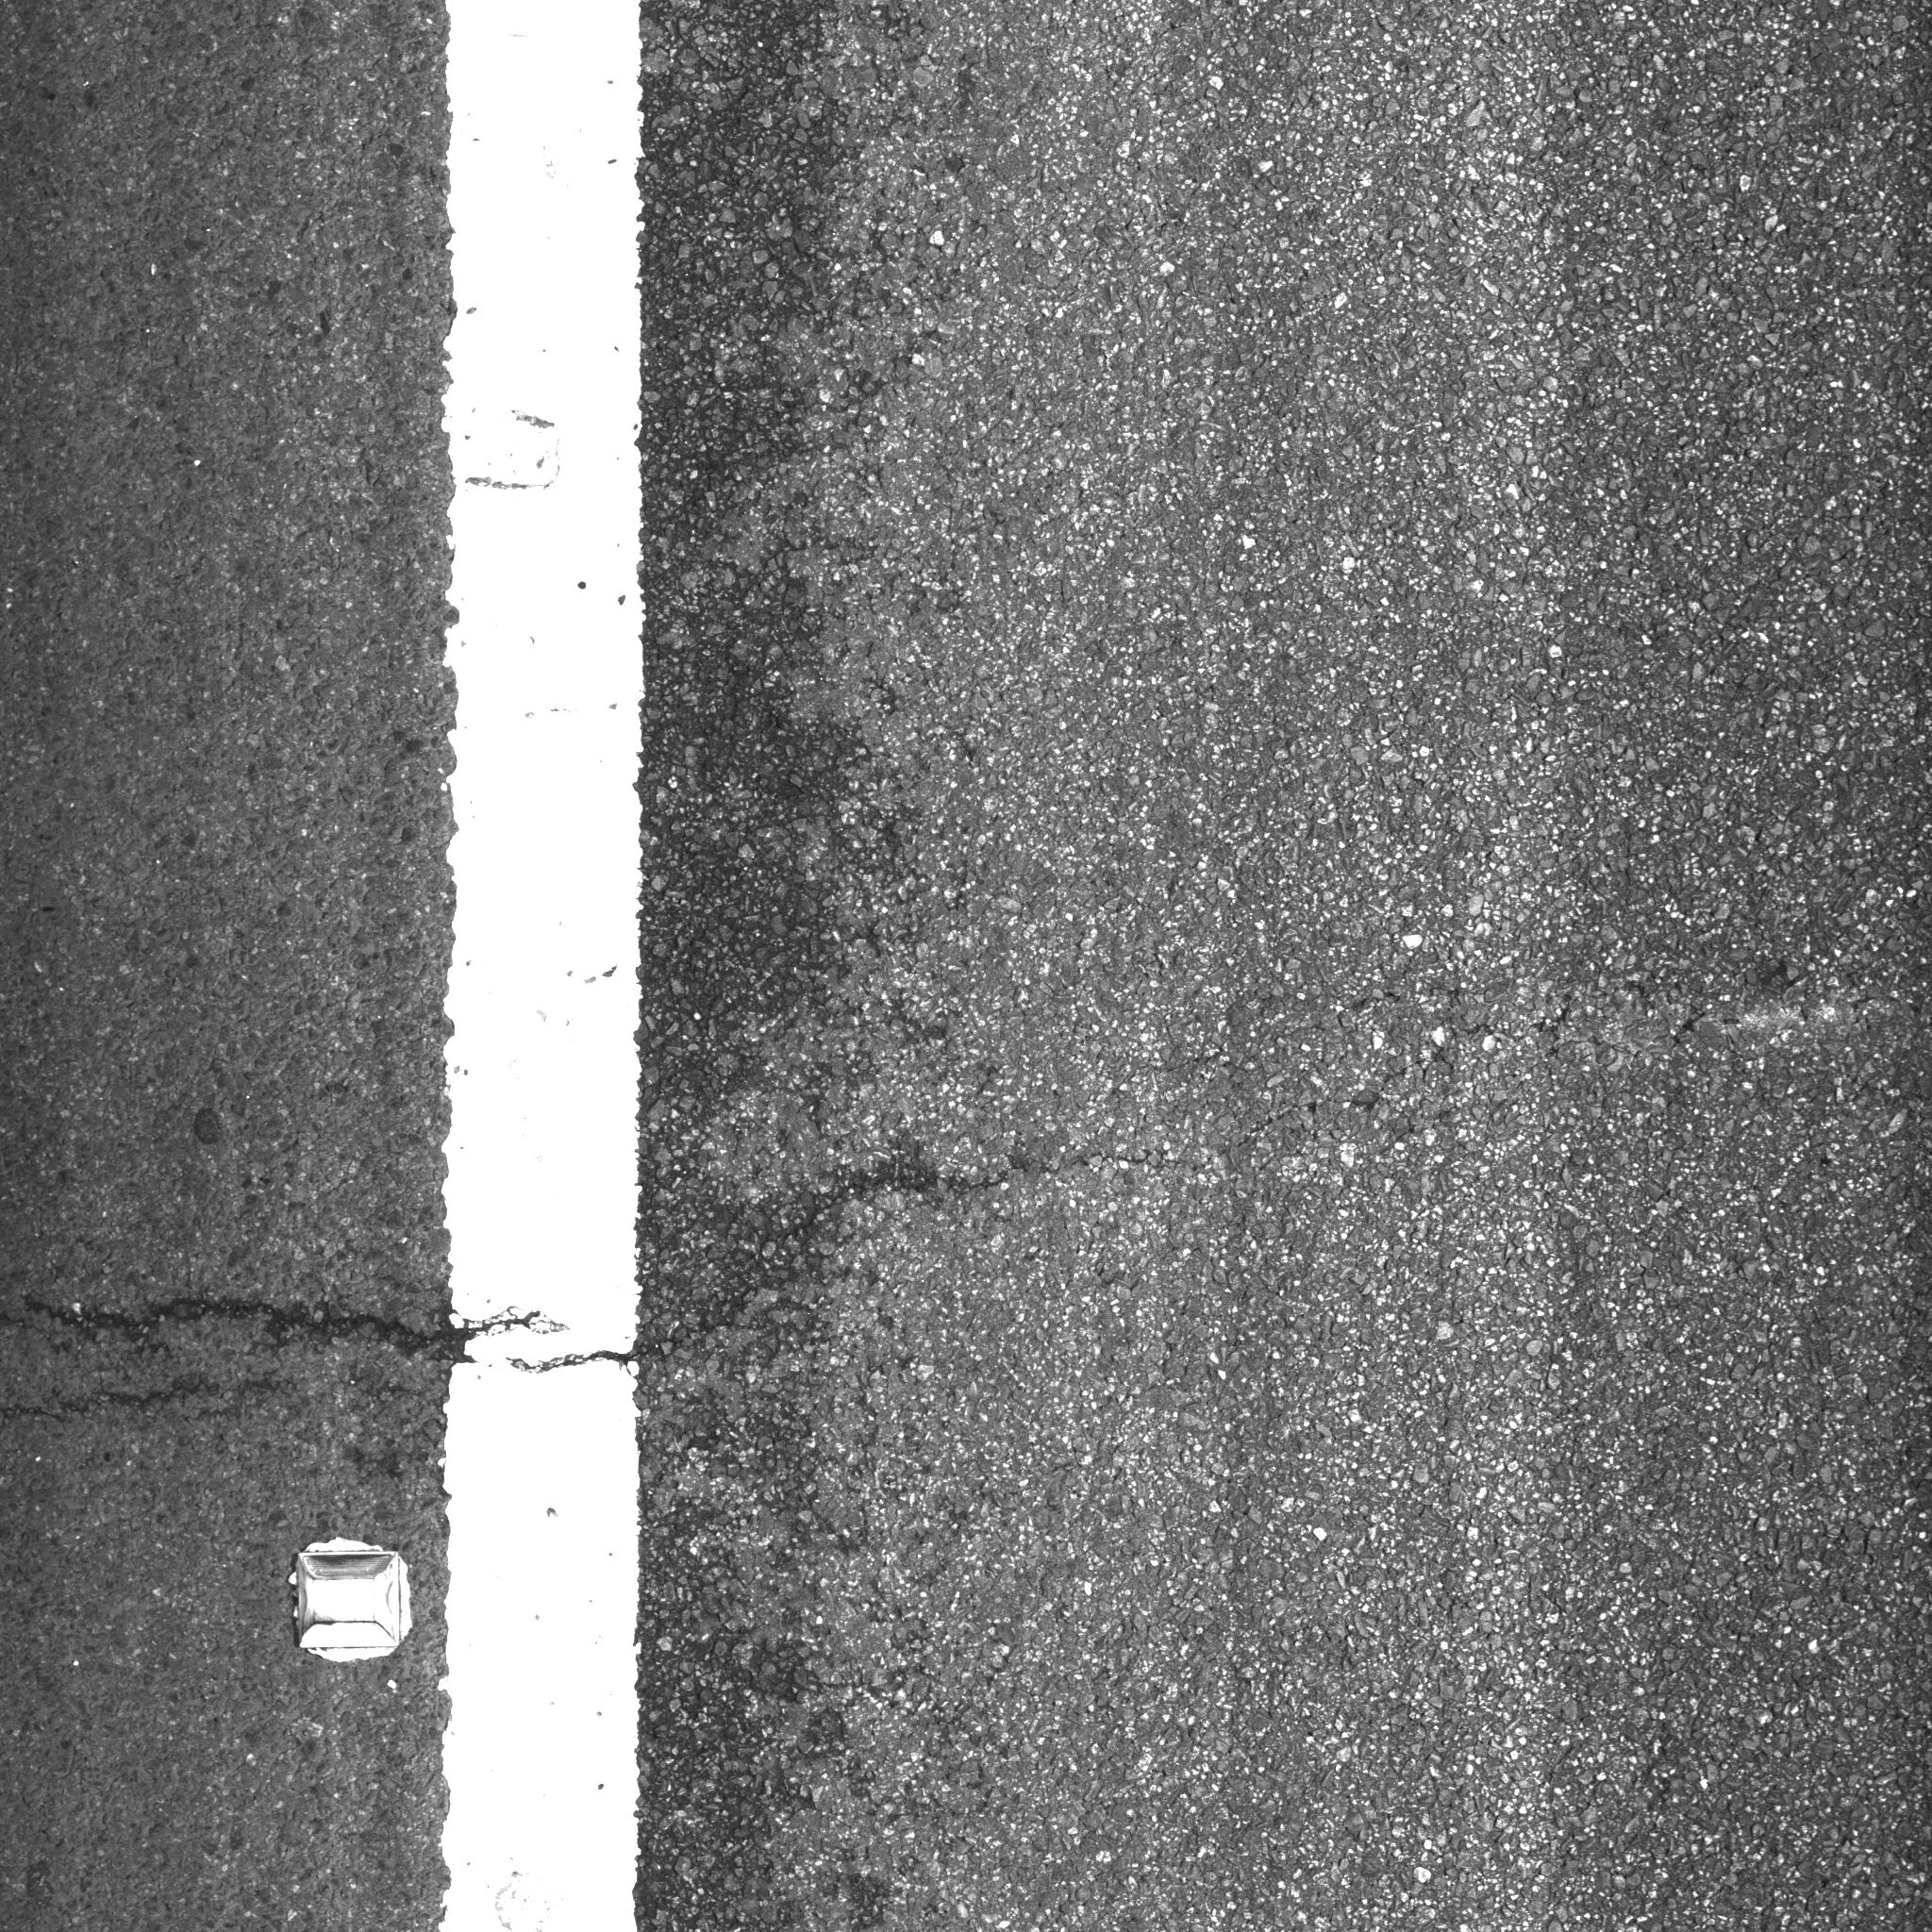transeverse: (11, 977, 1890, 1454)
